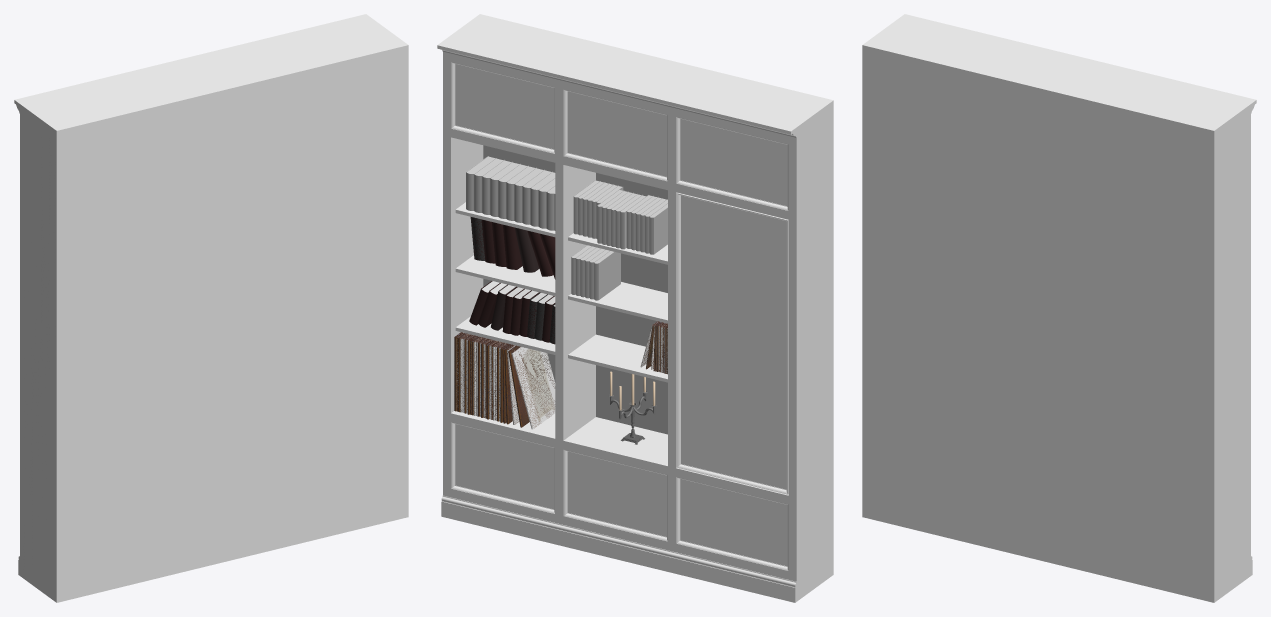
The picture shows the model from 3 angles, left to right: view 1: azimuth 30°, elevation 25°; view 2: azimuth 150°, elevation 25°; view 3: azimuth 330°, elevation 25°; orthographic projection.
Parts seen in each view (by area): view 1: mesh94_mesh94-geometry, mesh76_mesh76-geometry; view 2: mesh94_mesh94-geometry, mesh15_mesh15-geometry, mesh76_mesh76-geometry, mesh85_mesh85-geometry, mesh13_mesh13-geometry, mesh14_mesh14-geometry, mesh45_mesh45-geometry, mesh6_mesh6-geometry, mesh5_mesh5-geometry, mesh2_mesh2-geometry, mesh9_mesh9-geometry, mesh11_mesh11-geometry (+15 smaller); view 3: mesh94_mesh94-geometry, mesh76_mesh76-geometry.
Boxes of the visible parts, left/top/right/bottom form: mesh94_mesh94-geometry: left=20, top=55, right=408, bottom=602; mesh76_mesh76-geometry: left=14, top=14, right=408, bottom=140; mesh94_mesh94-geometry: left=443, top=51, right=833, bottom=601; mesh15_mesh15-geometry: left=681, top=195, right=786, bottom=489; mesh76_mesh76-geometry: left=437, top=14, right=833, bottom=137; mesh85_mesh85-geometry: left=466, top=156, right=667, bottom=300; mesh13_mesh13-geometry: left=441, top=495, right=796, bottom=602; mesh14_mesh14-geometry: left=676, top=192, right=788, bottom=494; mesh45_mesh45-geometry: left=511, top=346, right=555, bottom=429; mesh6_mesh6-geometry: left=568, top=334, right=667, bottom=382; mesh5_mesh5-geometry: left=568, top=282, right=667, bottom=323; mesh2_mesh2-geometry: left=455, top=255, right=555, bottom=295; mesh9_mesh9-geometry: left=676, top=476, right=788, bottom=571; mesh11_mesh11-geometry: left=676, top=116, right=788, bottom=211; mesh94_mesh94-geometry: left=862, top=55, right=1250, bottom=602; mesh76_mesh76-geometry: left=862, top=14, right=1256, bottom=140.
Size of the model in its own units: 0.6101 by 0.782 by 0.1276.
